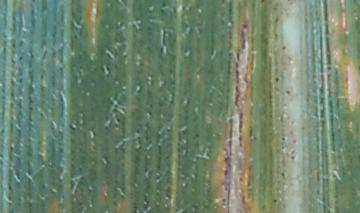tarspot: (279, 43, 287, 52), (273, 75, 280, 83), (278, 170, 285, 178), (288, 154, 296, 161), (284, 88, 291, 95), (279, 135, 286, 142), (272, 197, 278, 204), (290, 138, 297, 144), (289, 149, 295, 154), (258, 1, 267, 4)
